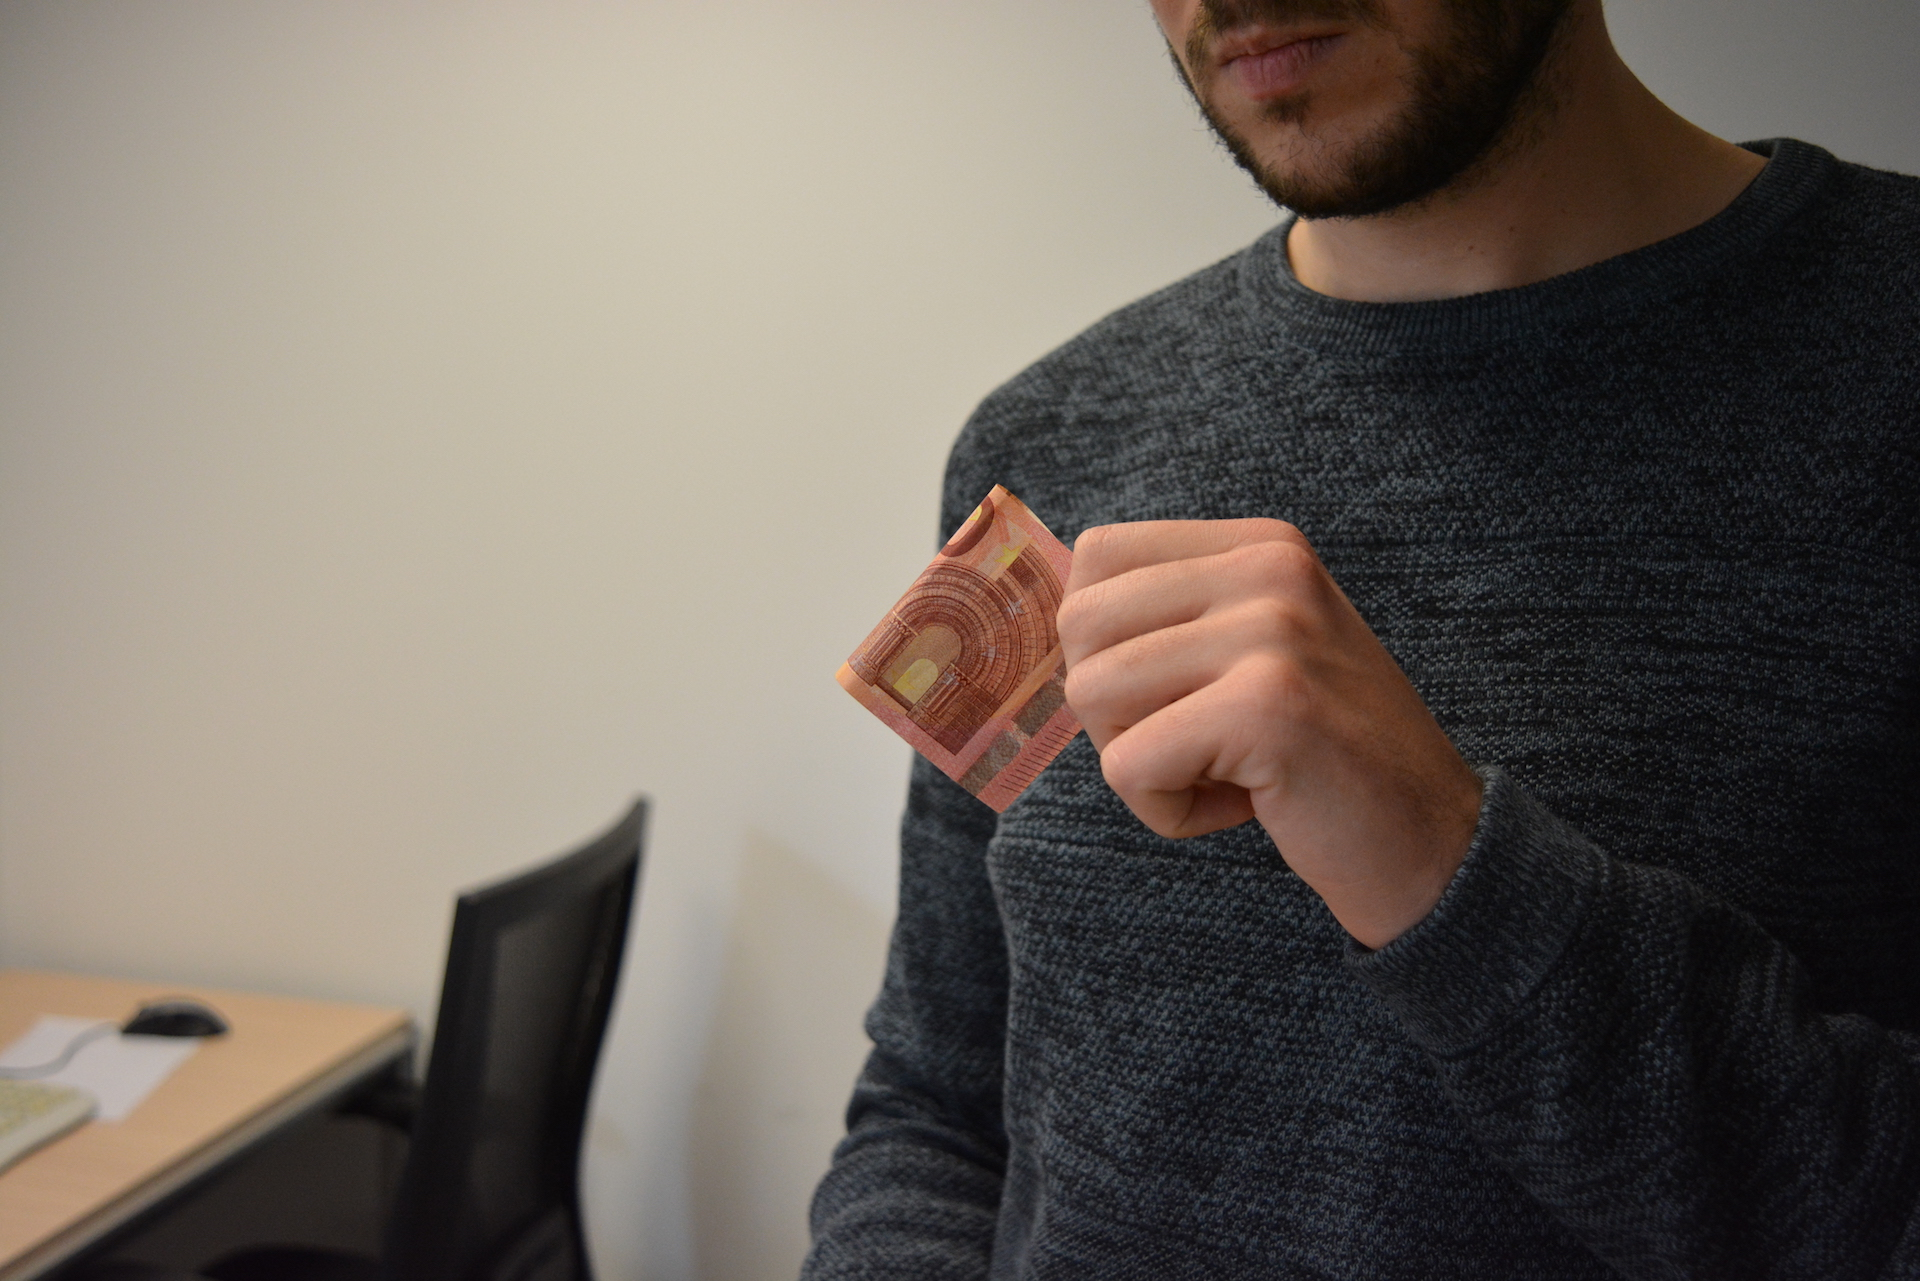billete: (831, 478, 1085, 813)
